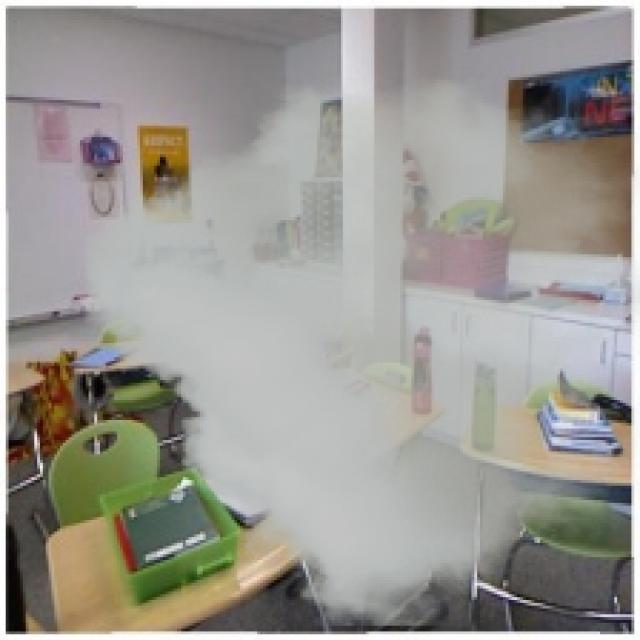Smoke: (82, 77, 638, 629)
